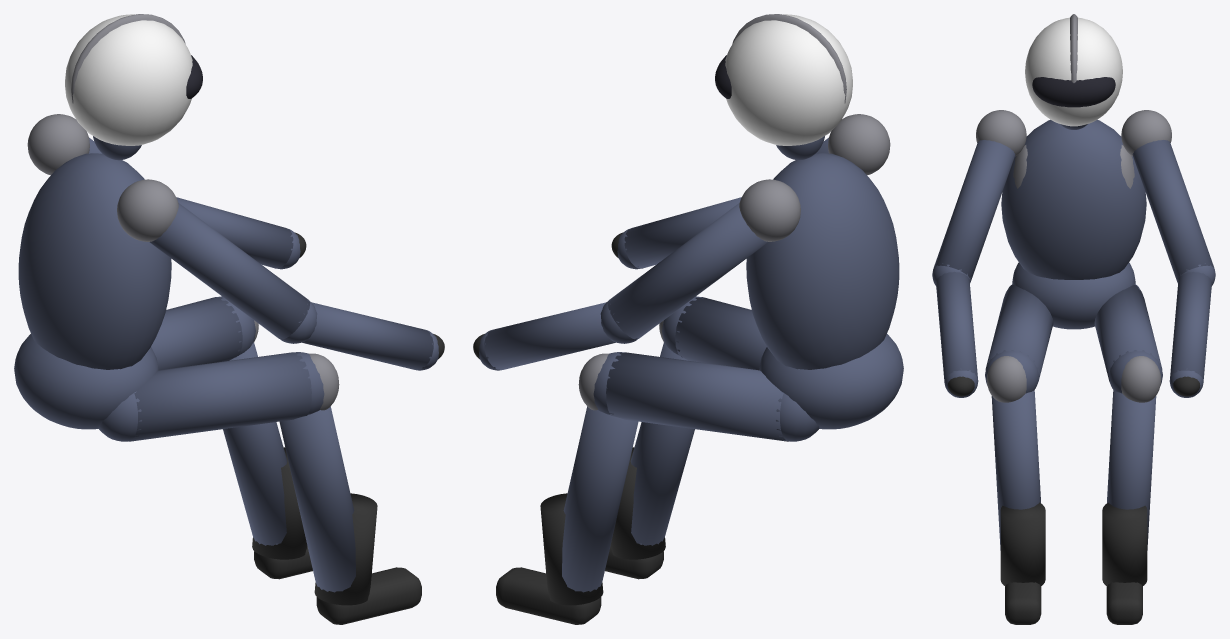
Rendered from SCOOTER125_Pilota.glb.
The picture shows the model from 3 angles, left to right: view 1: azimuth 30°, elevation 25°; view 2: azimuth 150°, elevation 25°; view 3: azimuth 270°, elevation 25°; orthographic projection. The views are drawn at different scales.
Visible parts, largest first — view 1: SCOOTER125_Pilota; view 2: SCOOTER125_Pilota; view 3: SCOOTER125_Pilota.
Part boxes in pixels (left/top/right/bottom): SCOOTER125_Pilota: left=14, top=14, right=444, bottom=624; SCOOTER125_Pilota: left=473, top=14, right=903, bottom=624; SCOOTER125_Pilota: left=932, top=14, right=1215, bottom=624.
Size of the model in its own units: 0.93 by 1.54 by 0.78.
